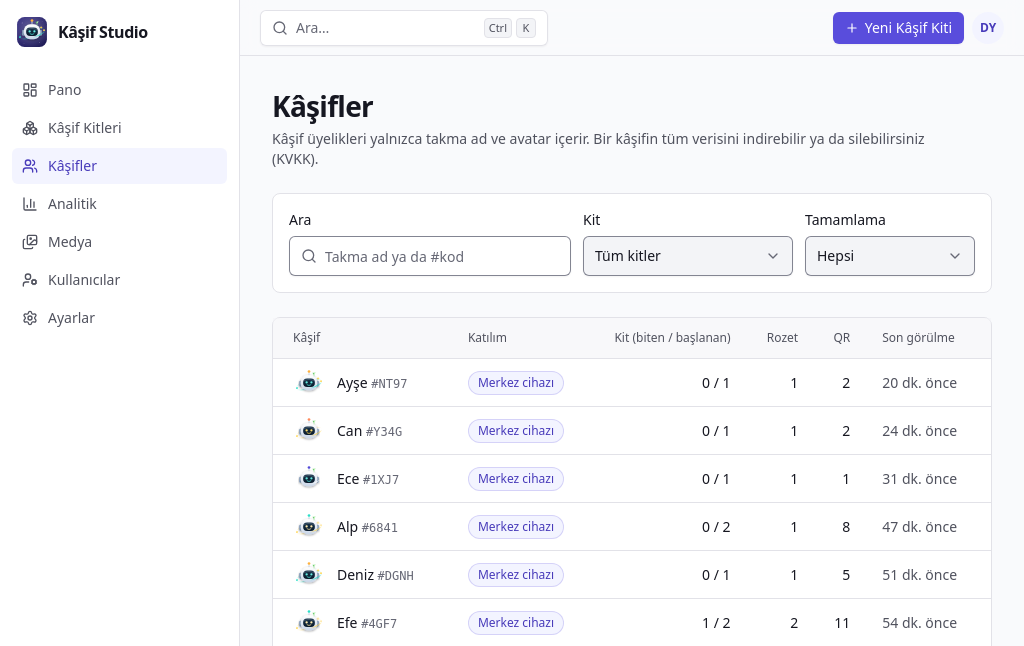
Test: Studio pages (admin, demo data) › explorers list, filters and an explorer’s detail
Select "Tamamlamayanlar" in the dropdown labelled "Tamamlama". click: (890, 256)
box: left=805, top=236, right=975, bottom=276
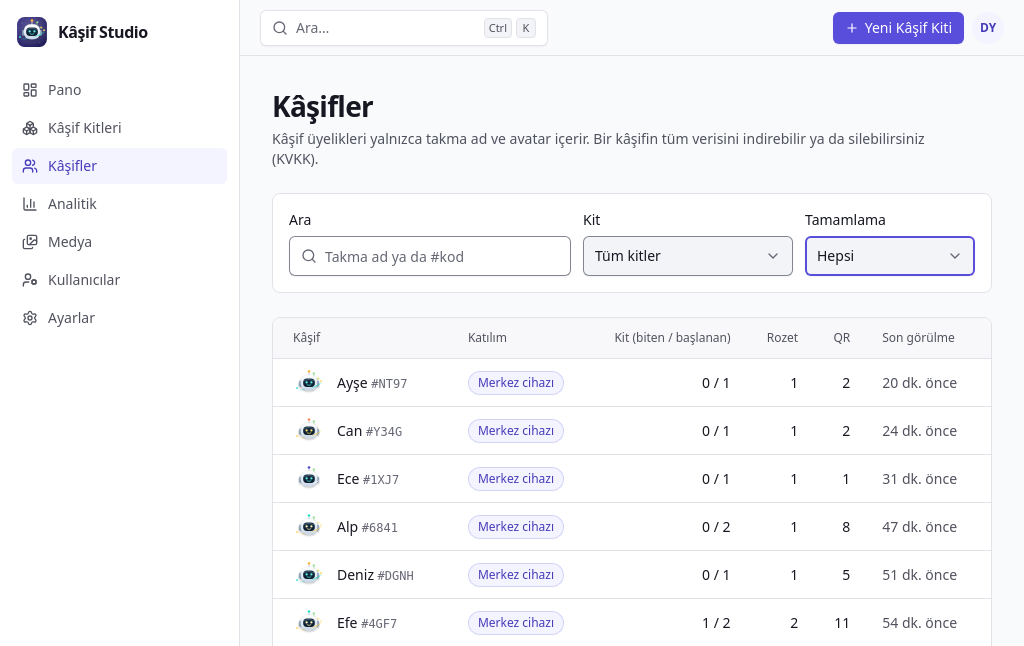
Click the link "Ayşe #NT97". click: (350, 383)
box: left=293, top=367, right=408, bottom=399
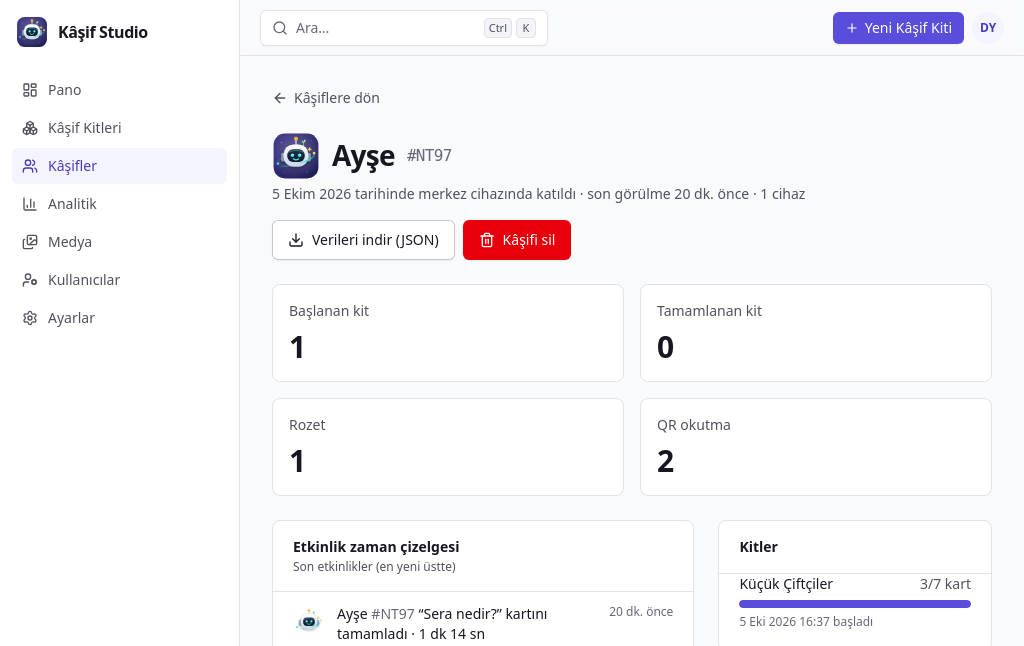
Now the button "Verileri indir (JSON)" is shown, box left=272, top=220, right=455, bottom=260
Now the heading "Etkinlik zaman çizelgesi" is shown, box left=293, top=537, right=460, bottom=556
